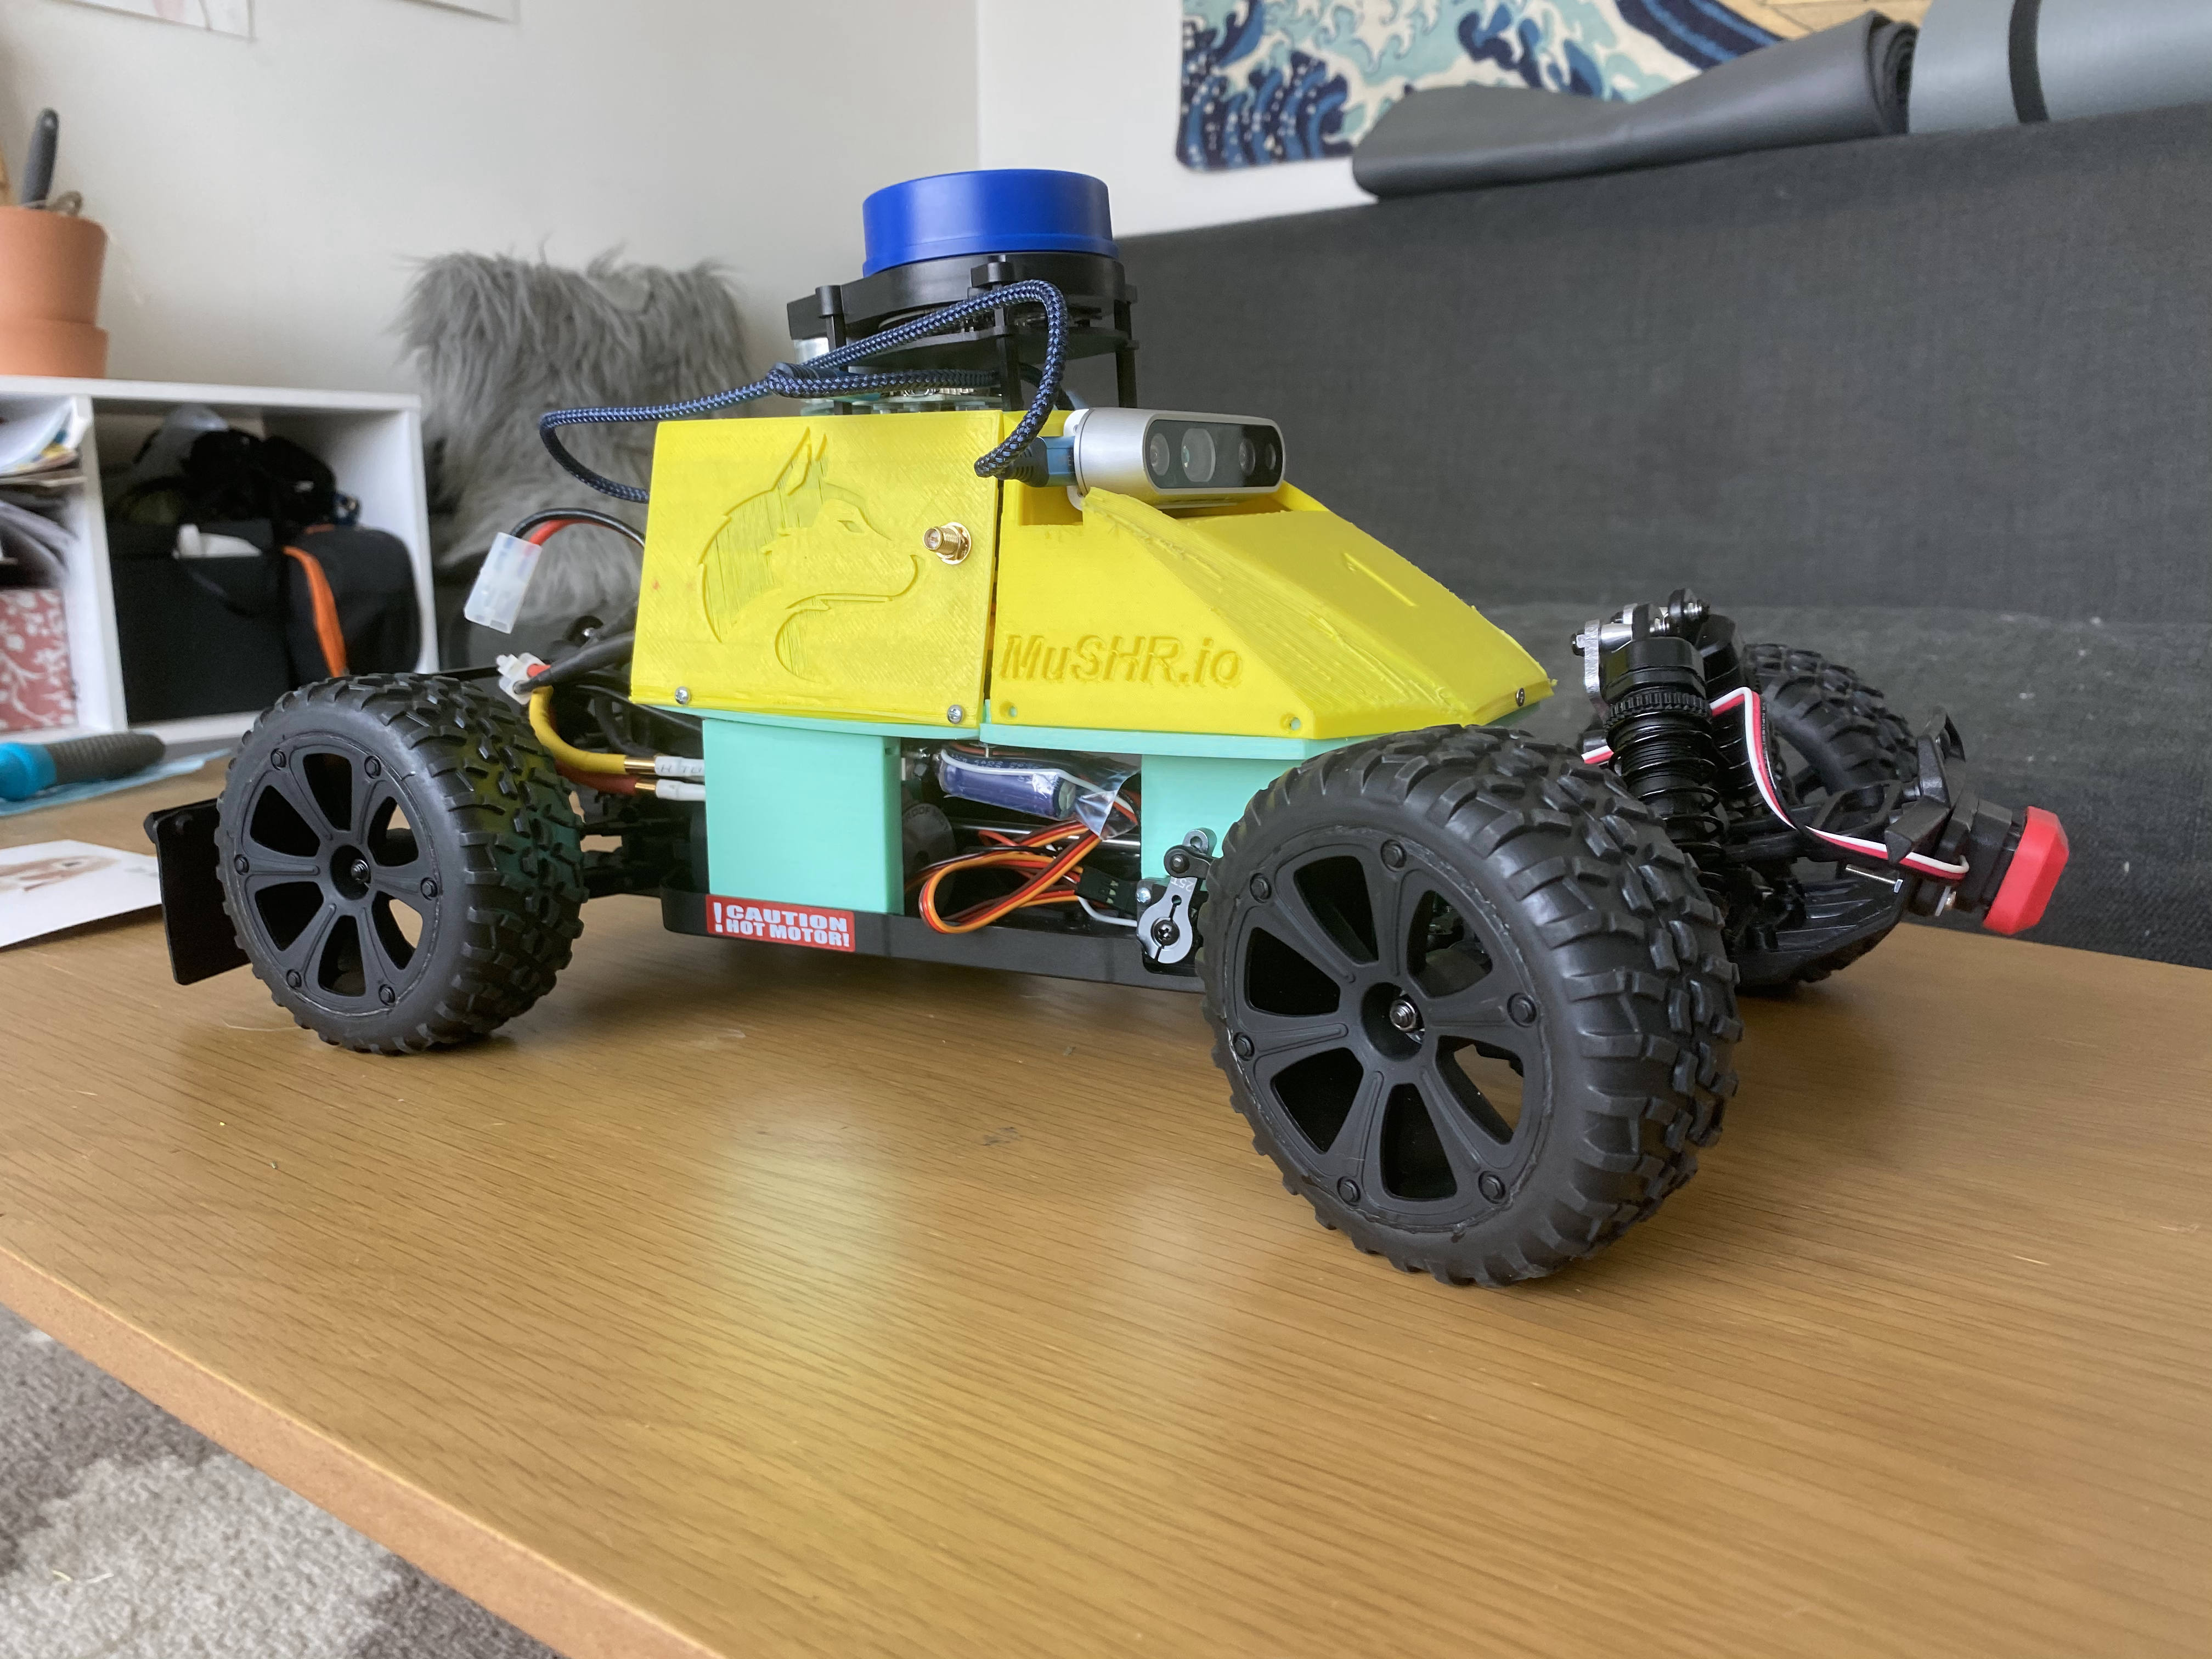mushr_car: (145, 169, 2078, 1298)
